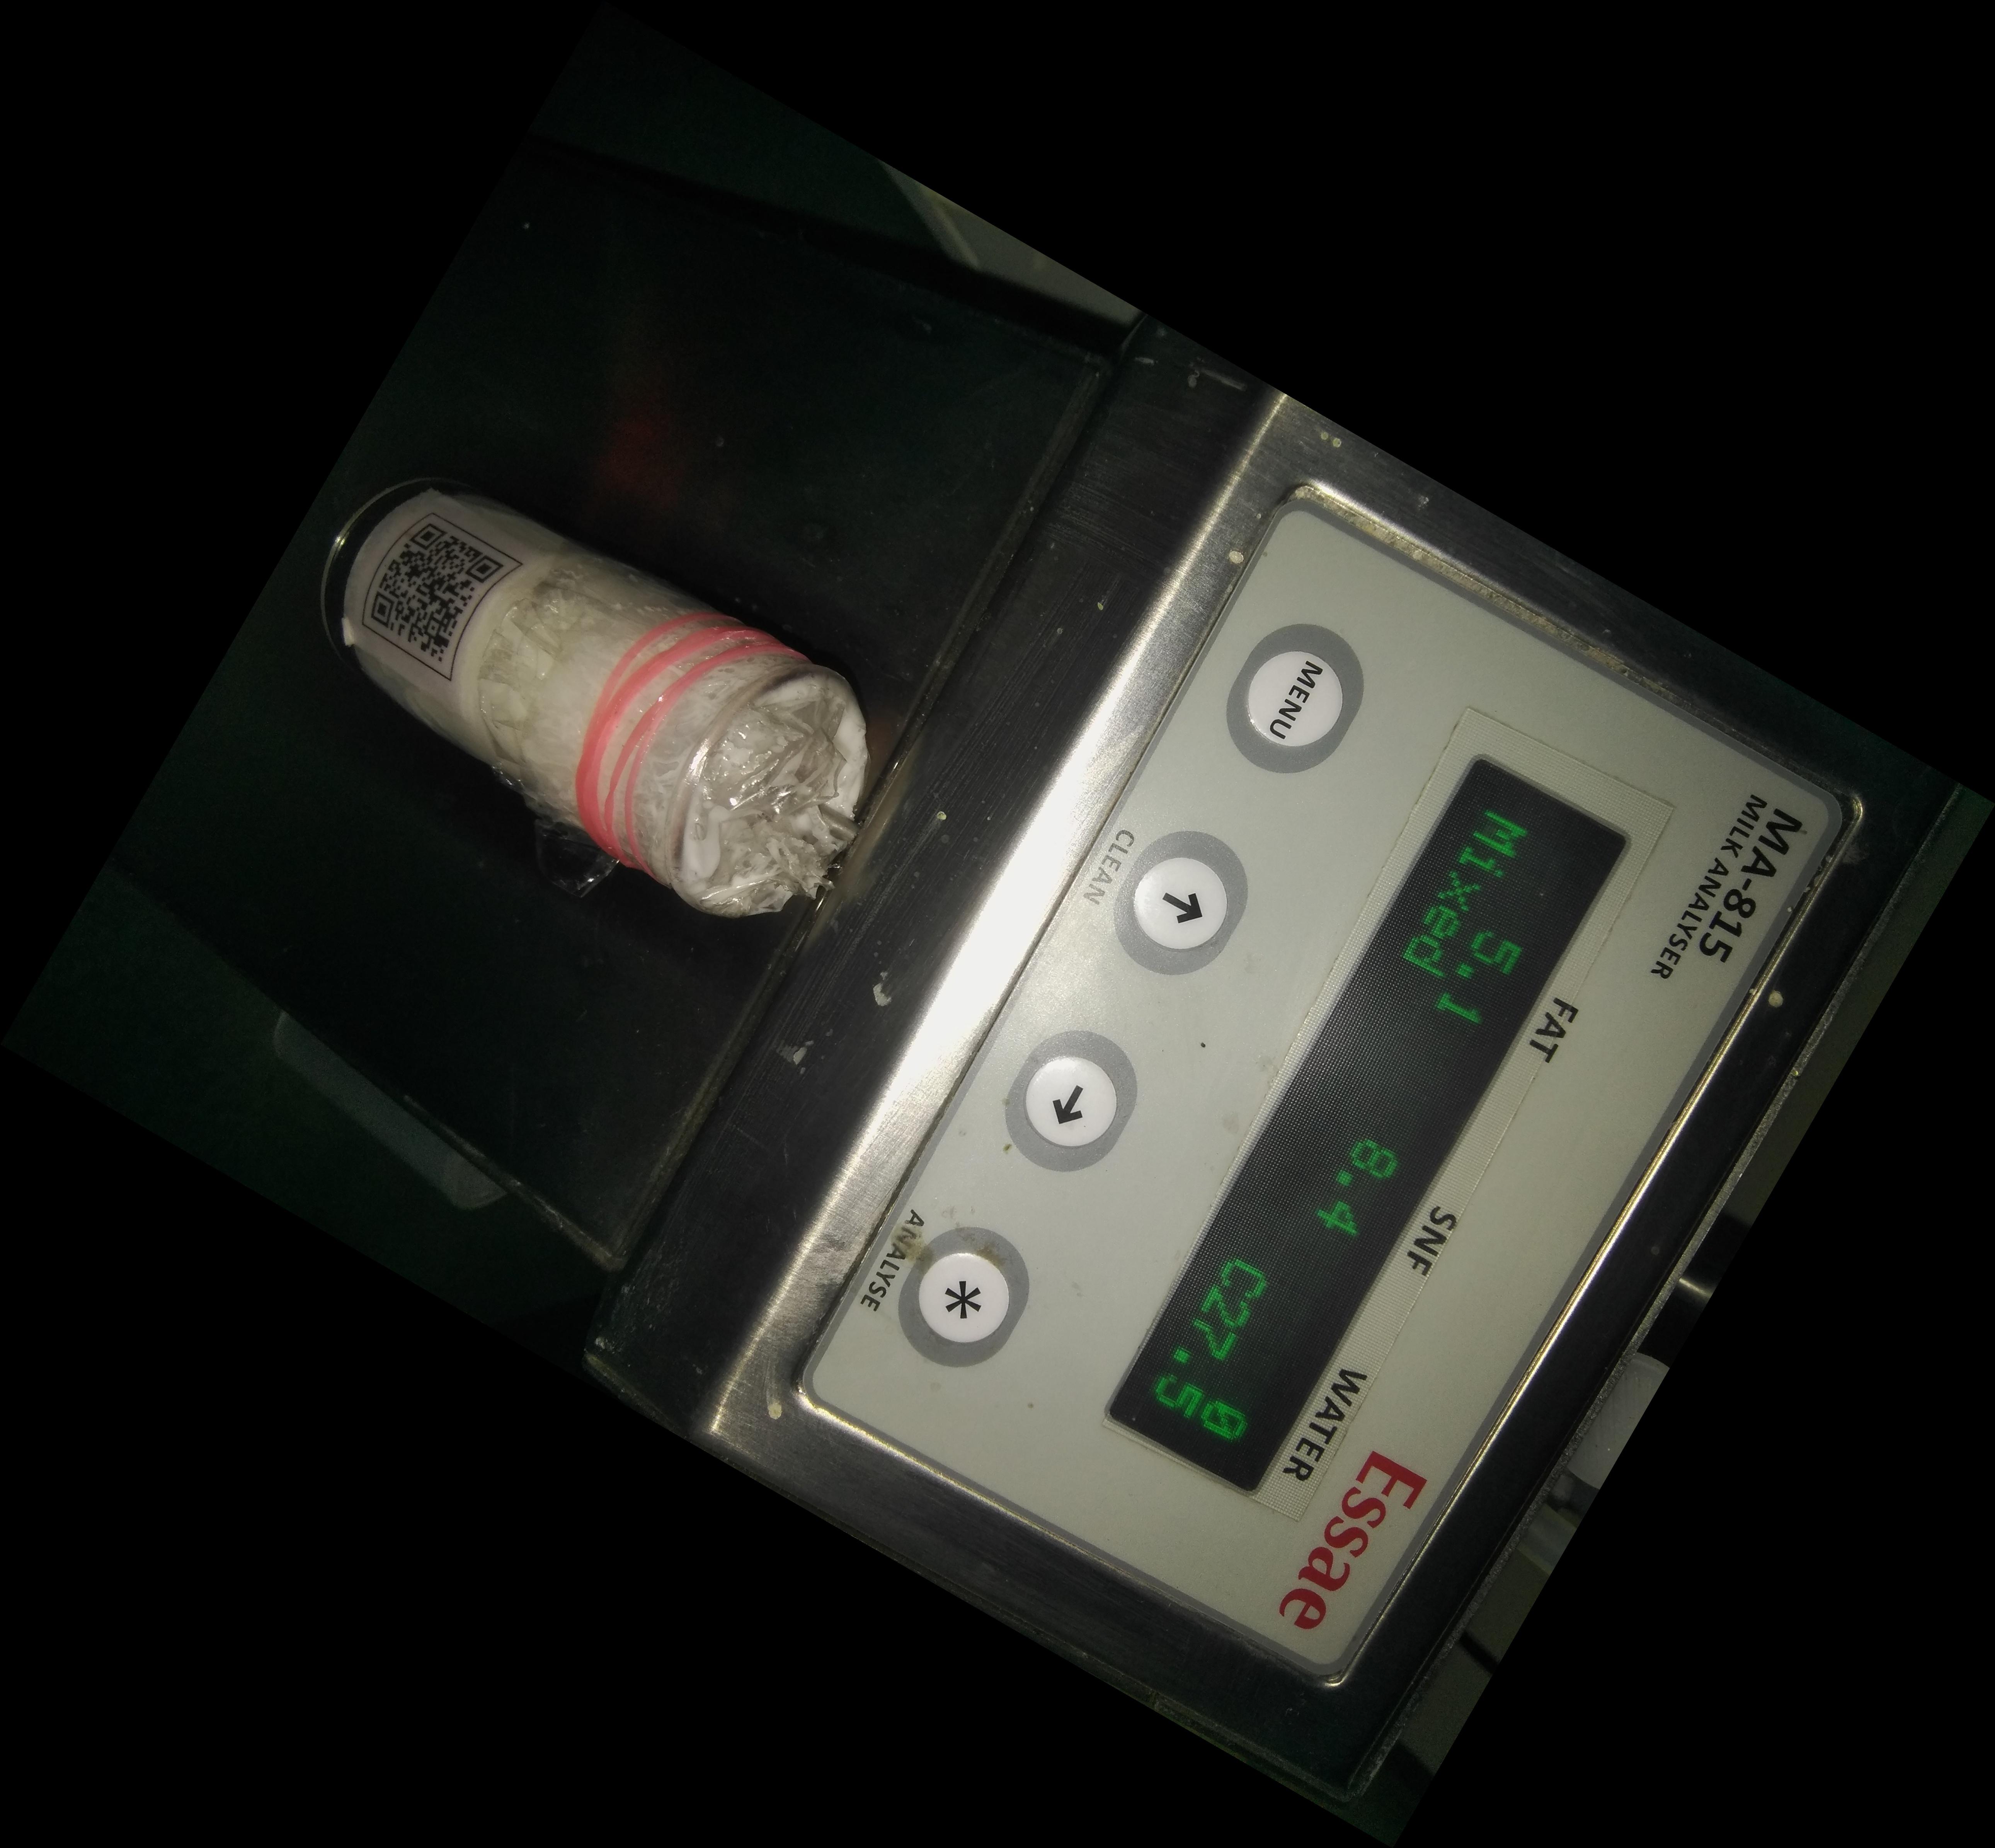lcd: (1081, 748, 1656, 1509)
qr: (348, 504, 535, 701)
